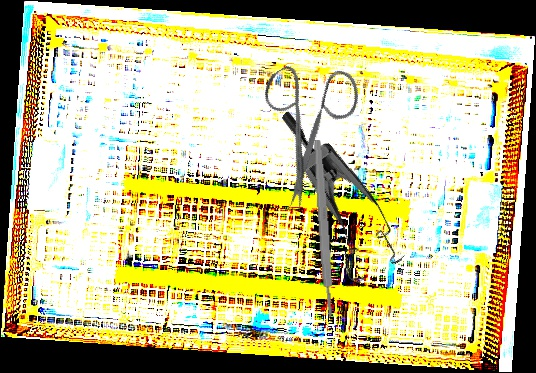Iris Scissors: (227, 39, 397, 214)
Scalpel Handle: (311, 139, 336, 318)
Speculum: (230, 109, 429, 297)
